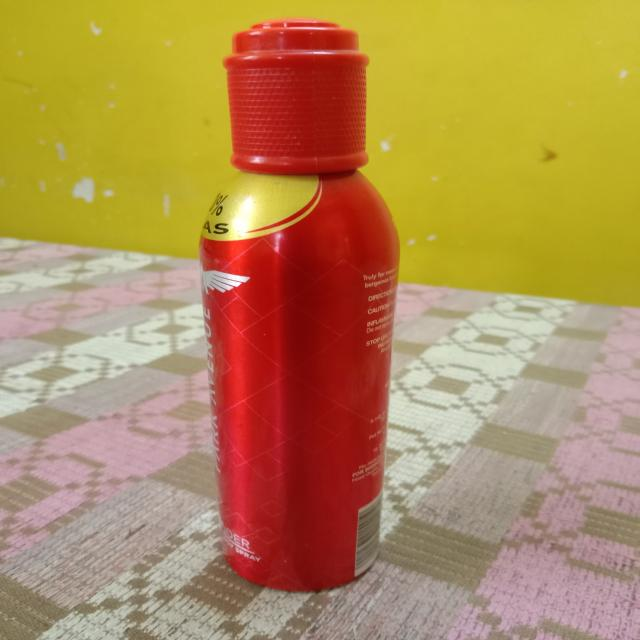deodorant: (191, 12, 390, 587)
